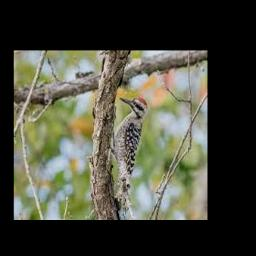Woodpecker: (111, 97, 148, 220)
